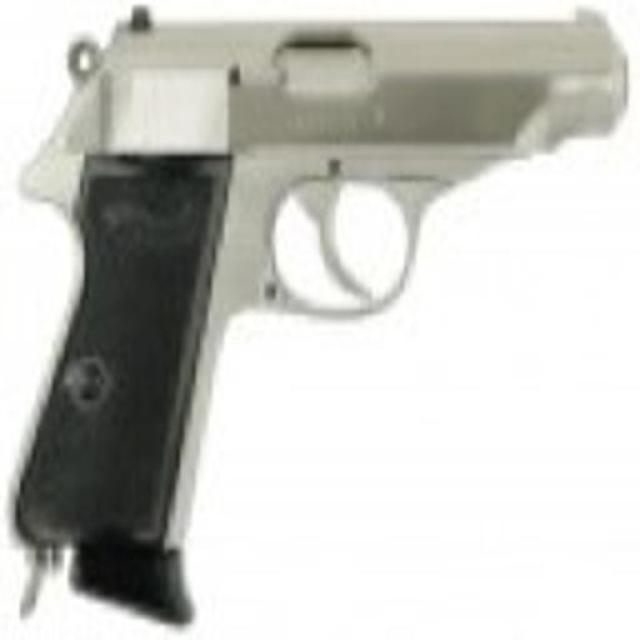pistol: (4, 5, 615, 617)
